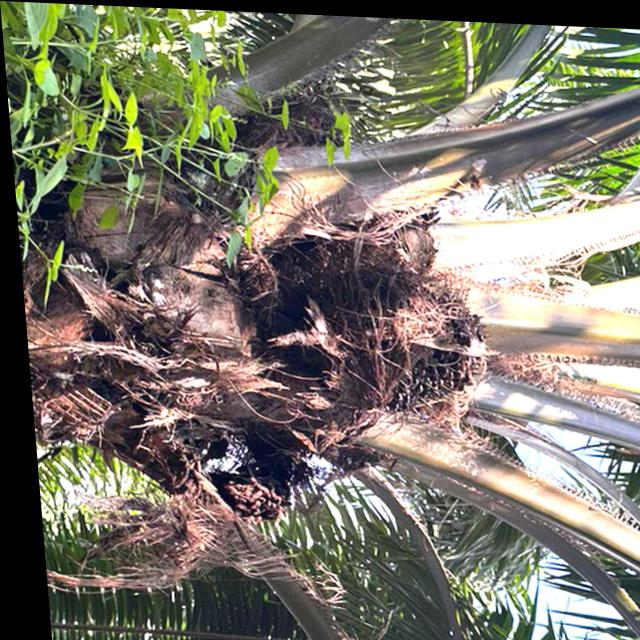ripe: (316, 265, 500, 429)
